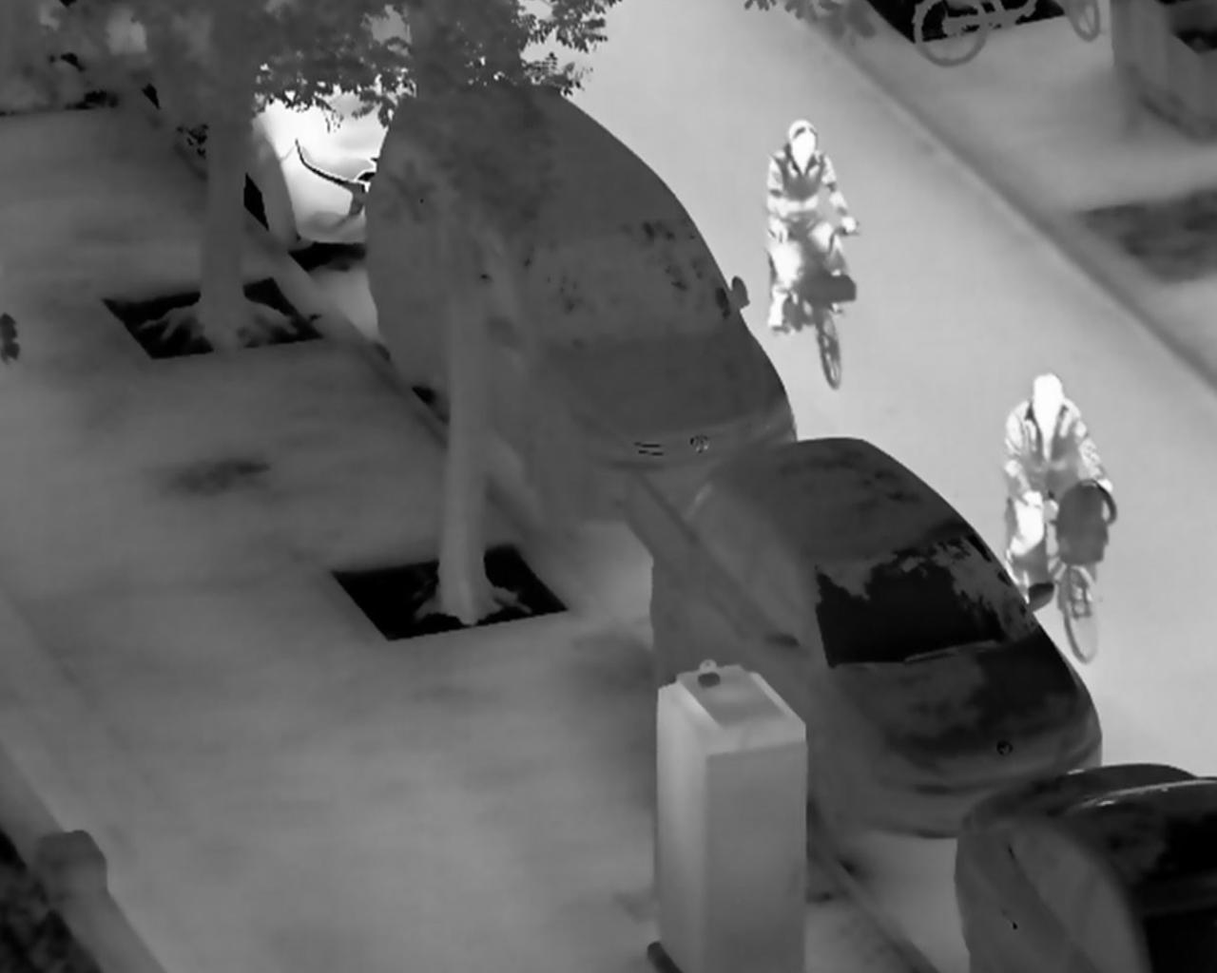person: (999, 370, 1114, 606), (765, 118, 862, 334)
